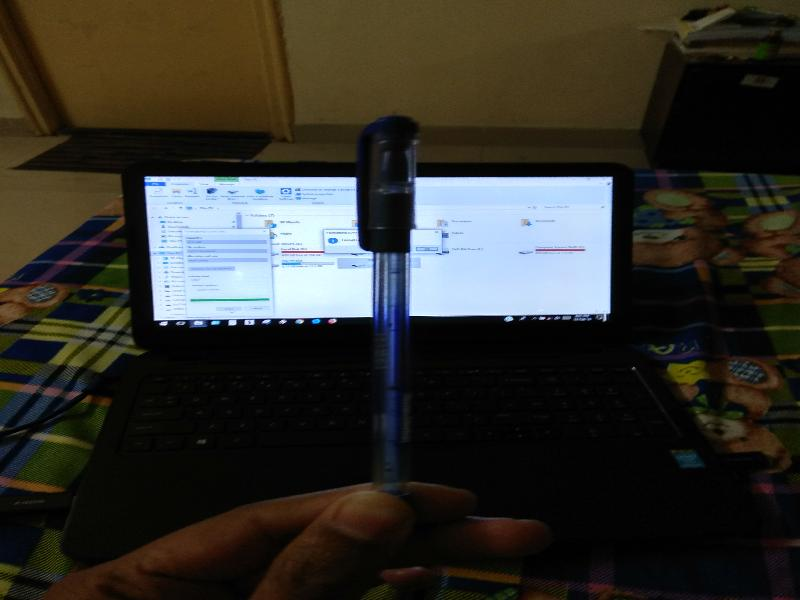pen: (354, 110, 432, 515)
